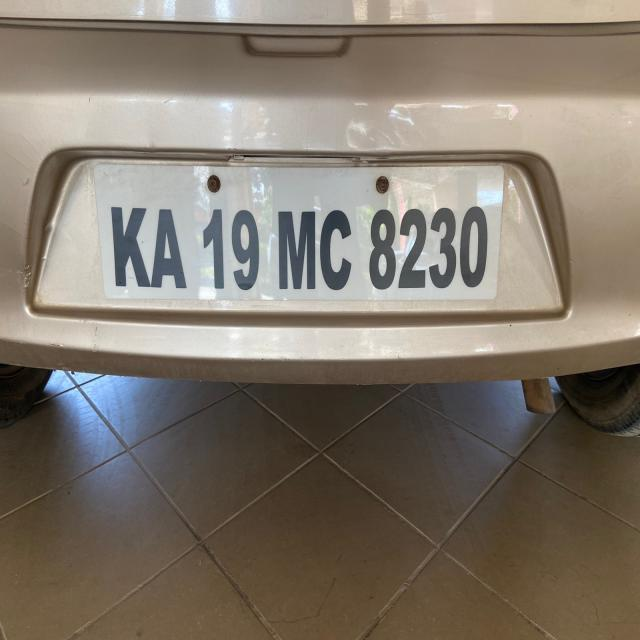0: (460, 202, 497, 298)
1: (198, 198, 230, 298)
3: (426, 203, 461, 297)
8: (367, 202, 399, 294)
9: (230, 202, 260, 296)
A: (148, 196, 189, 297)
C: (318, 206, 353, 294)
K: (103, 198, 149, 294)
M: (274, 202, 318, 292)
